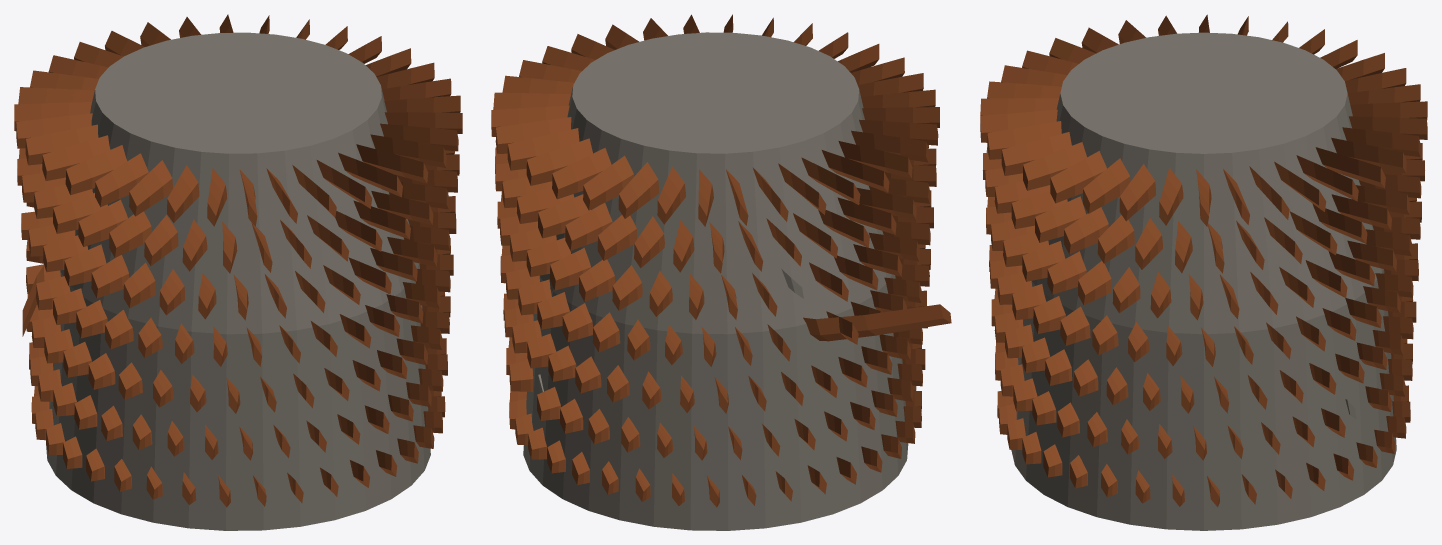
Rendered from comprotor_scrap.glb.
3 renders of one model, left to right at view 1: azimuth 30°, elevation 25°; view 2: azimuth 150°, elevation 25°; view 3: azimuth 270°, elevation 25°, orthographic.
Visible parts, largest first — view 1: comprotor_scrap; view 2: comprotor_scrap; view 3: comprotor_scrap.
Part boxes in pixels (box(x1,y1,x2,y2)): comprotor_scrap: box(14, 14, 462, 530); comprotor_scrap: box(491, 14, 951, 530); comprotor_scrap: box(980, 14, 1427, 530).
Size of the model in its own units: 0.2565 by 0.232 by 0.2367.
